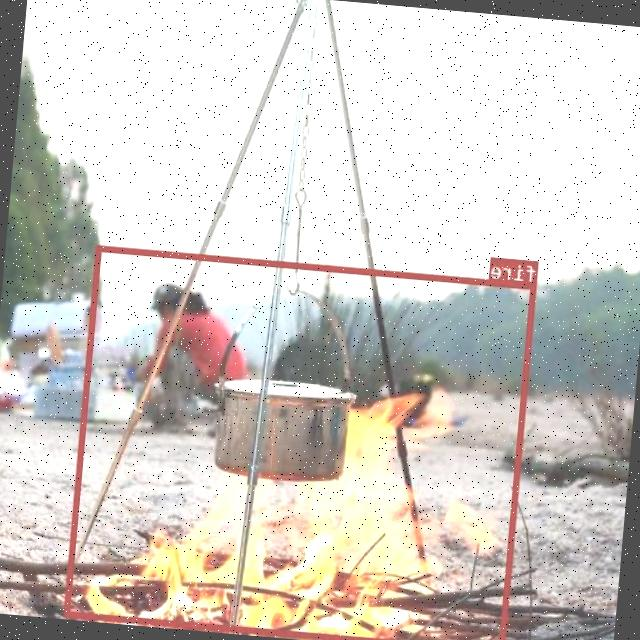fire: (64, 243, 536, 640)
